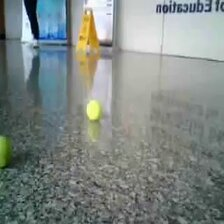tennis: (86, 101, 101, 121)
